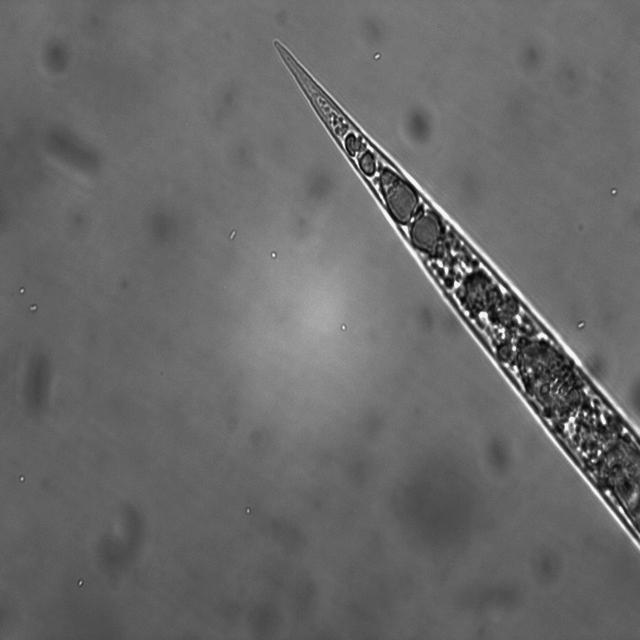Meloidogyne: (270, 38, 640, 579)
